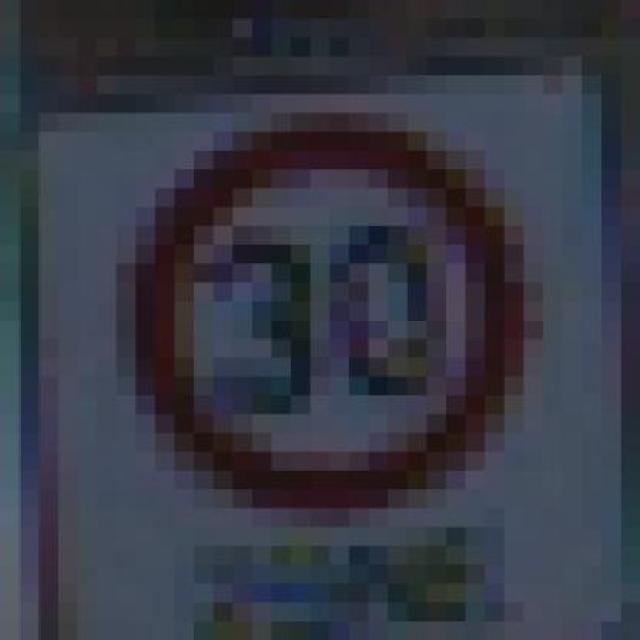forb_speed_over_30: (144, 130, 519, 505)
